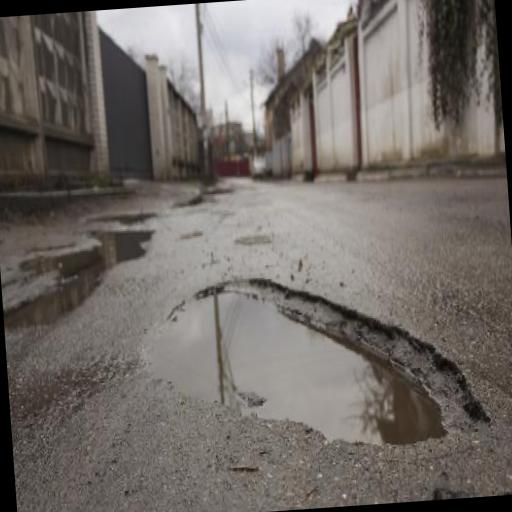pothole: (136, 256, 490, 466)
